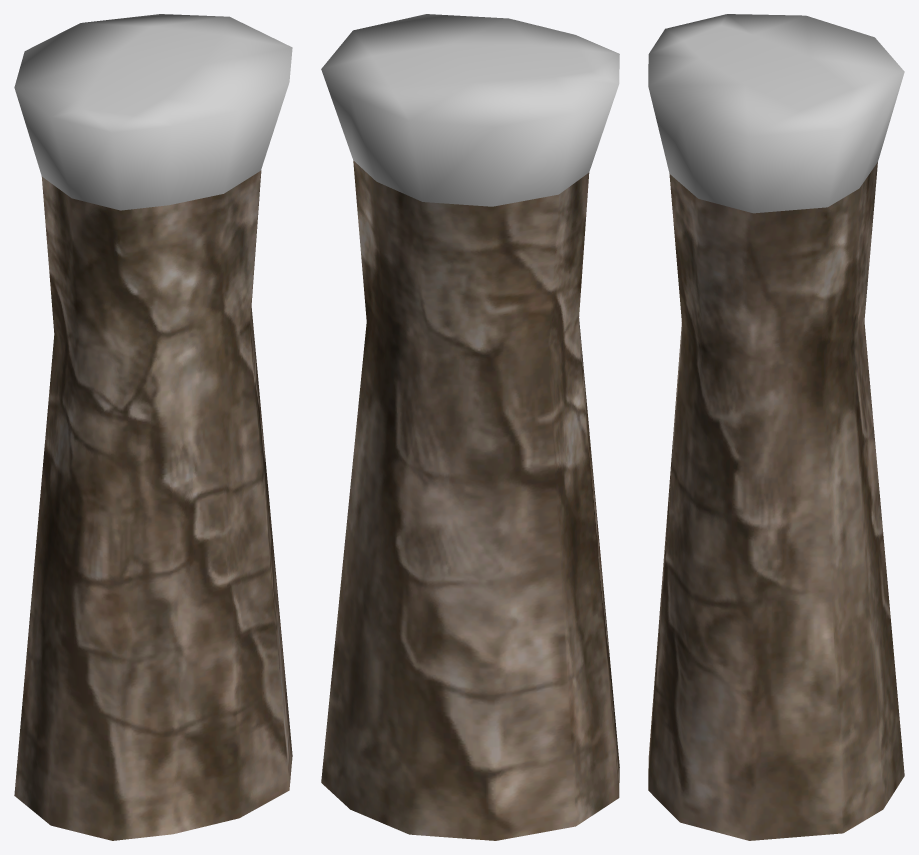
File: INST_EKH_ENT_PILLAR.obj
3 renders of one model, left to right at view 1: azimuth 30°, elevation 25°; view 2: azimuth 150°, elevation 25°; view 3: azimuth 270°, elevation 25°, orthographic.
Parts seen in each view (by area): view 1: EN_Object02; view 2: EN_Object02; view 3: EN_Object02.
Part boxes in pixels (left/top/right/bottom): EN_Object02: left=14, top=14, right=292, bottom=840; EN_Object02: left=321, top=14, right=619, bottom=840; EN_Object02: left=648, top=14, right=904, bottom=840.
Bounding box in the file's own units: 216 × 584 × 191.
